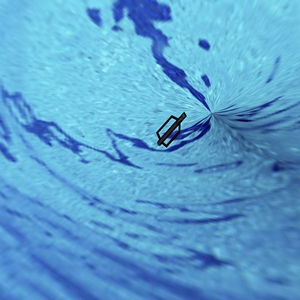submarine: (139, 85, 192, 156)
